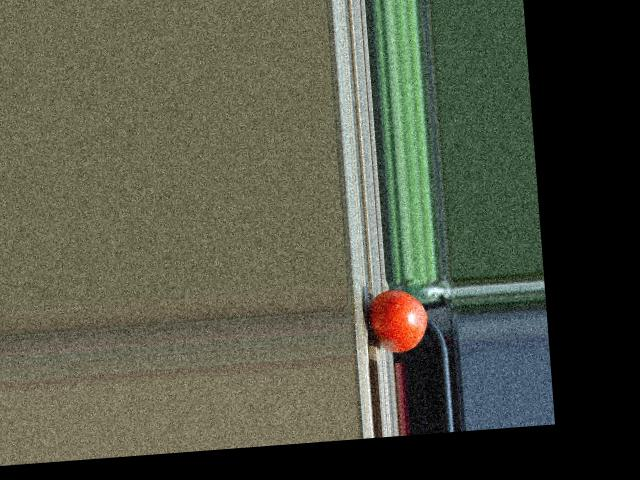tomato: (368, 286, 430, 353)
